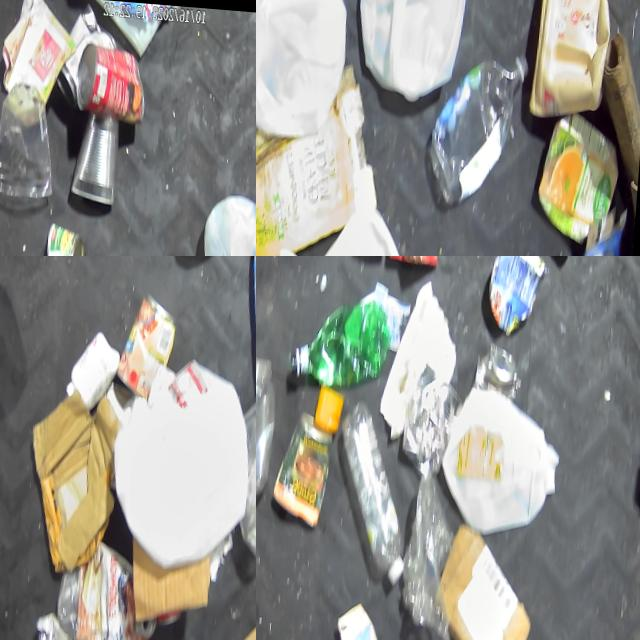can: (276, 405, 339, 530), (117, 283, 183, 395), (74, 35, 151, 119), (72, 101, 123, 204), (485, 256, 549, 332), (475, 335, 525, 400), (45, 215, 90, 256)
milk_jug: (112, 348, 256, 571), (441, 375, 568, 538), (256, 0, 354, 137), (354, 0, 475, 98), (299, 192, 422, 256)
plastic_bottle: (430, 35, 532, 203), (335, 388, 421, 587)
